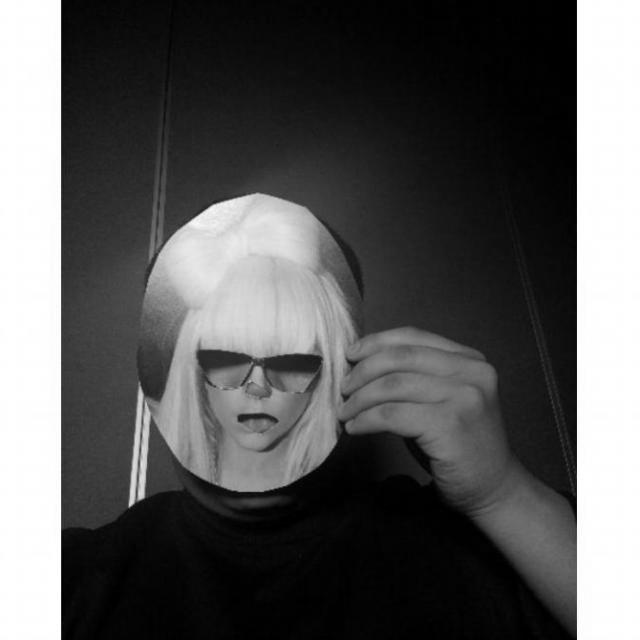fake: (135, 190, 365, 494)
